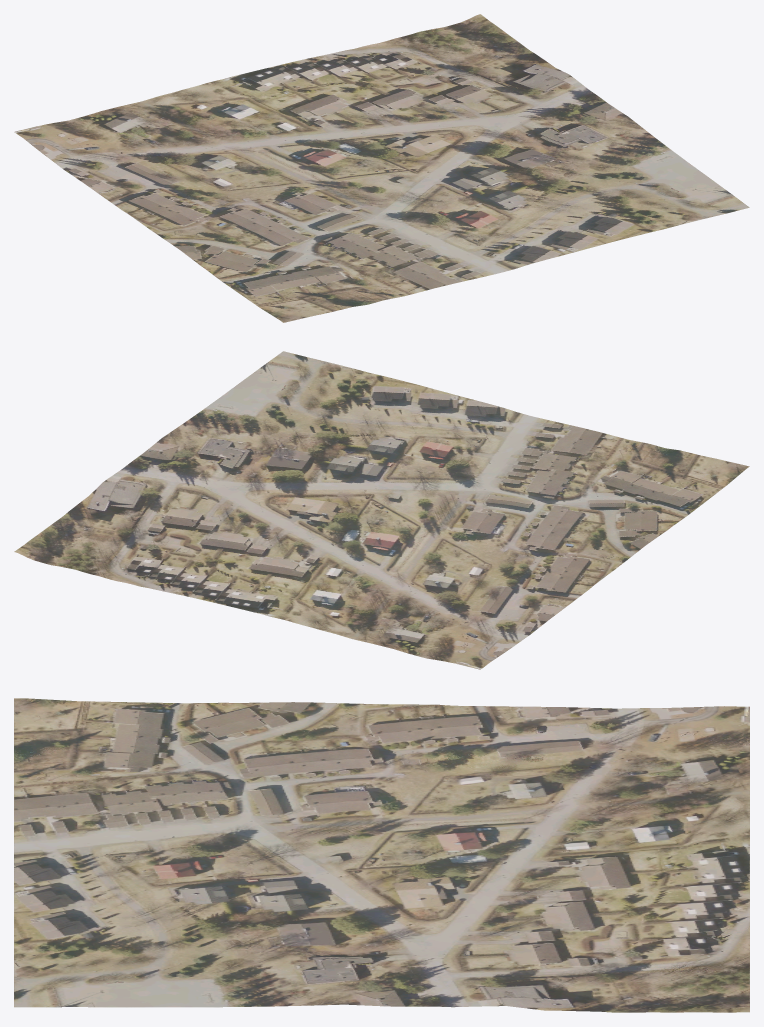
The model's file is CM_Terrain_24491073_6820204.fbx.
3 renders of one model, top to bottom at view 1: azimuth 30°, elevation 25°; view 2: azimuth 150°, elevation 25°; view 3: azimuth 270°, elevation 25°, orthographic. The views are drawn at different scales.
Visible parts, largest first — view 1: CM_Terrain_24491073_6820204_LOD0; view 2: CM_Terrain_24491073_6820204_LOD0; view 3: CM_Terrain_24491073_6820204_LOD0.
Part boxes in pixels (<box>): CM_Terrain_24491073_6820204_LOD0: <box>14,14,749,322</box>; CM_Terrain_24491073_6820204_LOD0: <box>14,351,749,669</box>; CM_Terrain_24491073_6820204_LOD0: <box>14,698,749,1012</box>.
Size of what is drawn, in the model's own units: 205 by 5.28 by 205.
